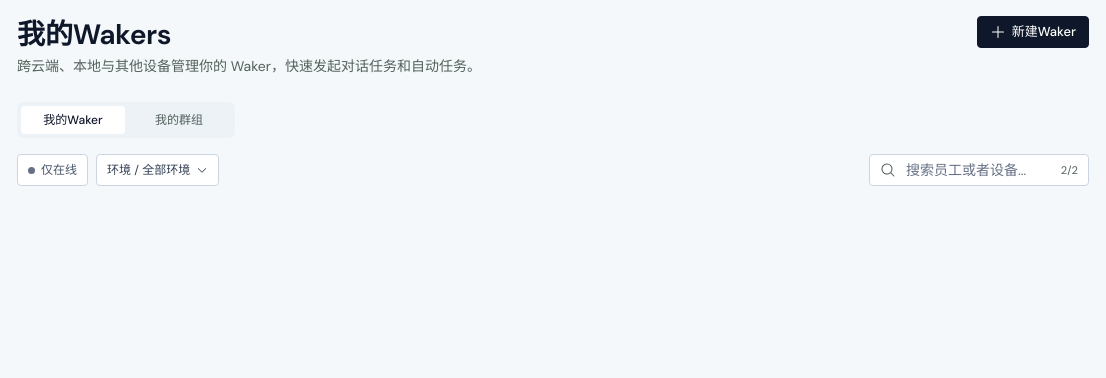
Scenario: WakersView 管理视图 › uses the legacy search placeholder and keeps client-side search
Type "Agent B" into the field named "搜索 Waker". click: [978, 170]
box: x1=904 y1=158 x2=1053 y2=182
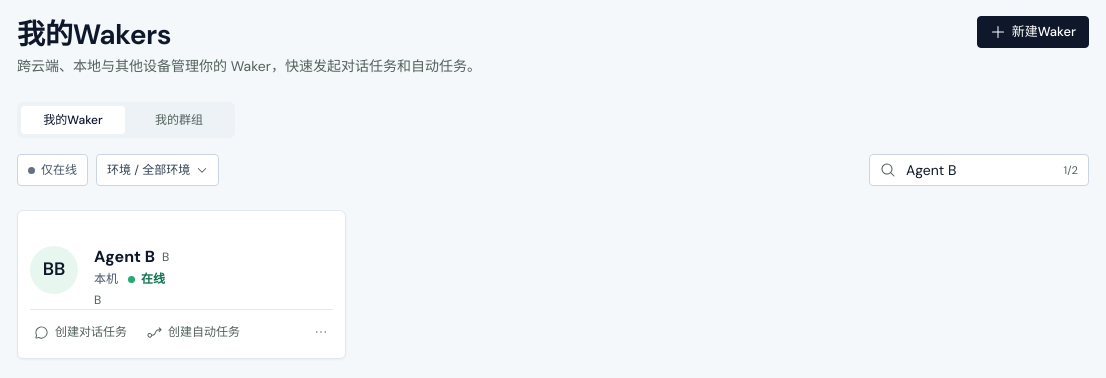
Now the heading "Agent BB" is shown, box x1=94 y1=246 x2=169 y2=266
